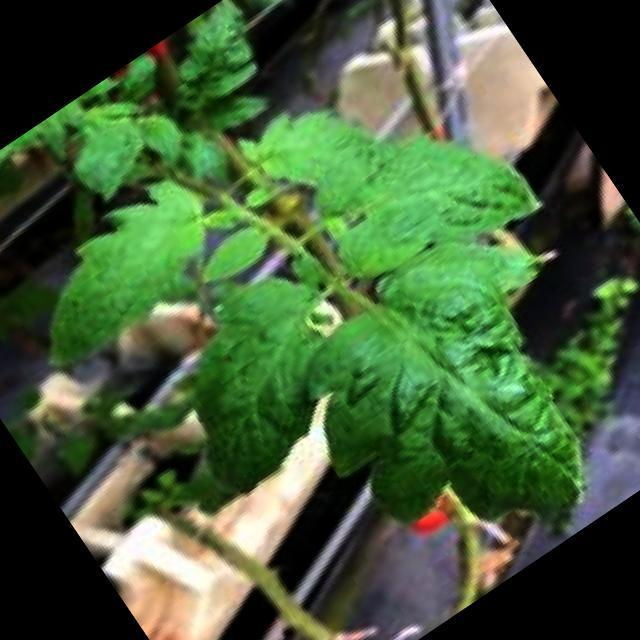Tomato healthy leaf: (48, 110, 586, 528)
